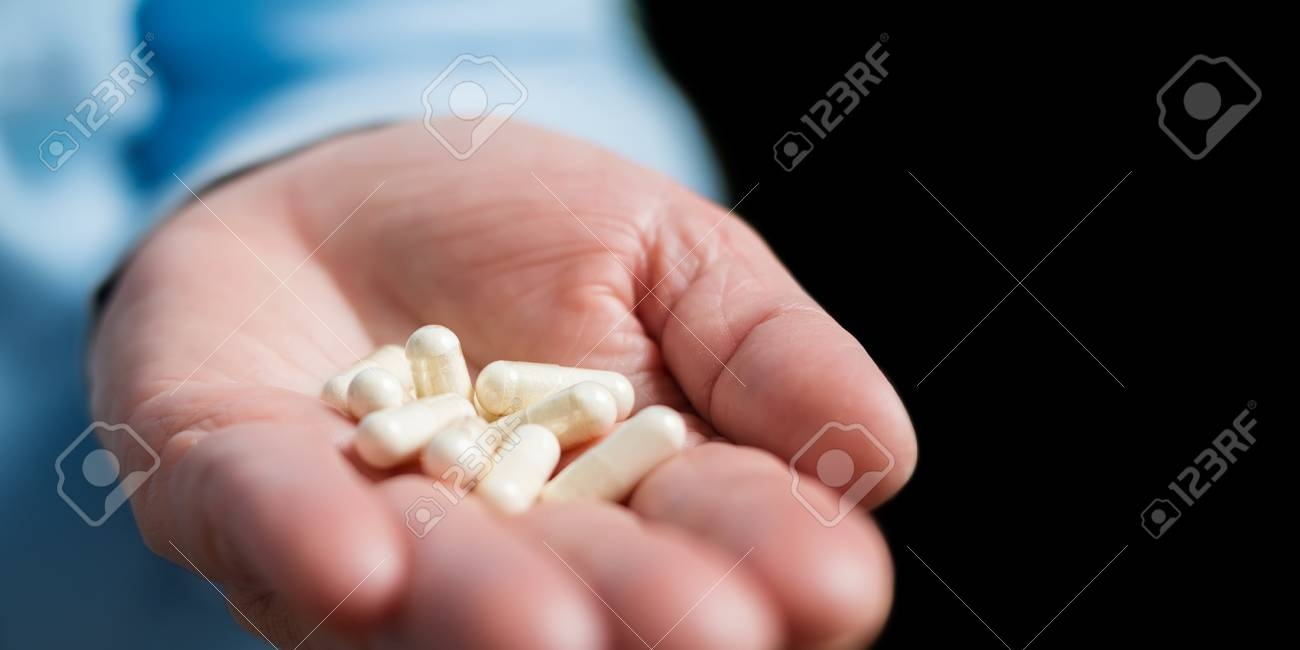pills: (549, 409, 704, 503), (484, 358, 638, 419), (353, 400, 488, 455), (479, 420, 554, 519), (411, 319, 474, 402)
